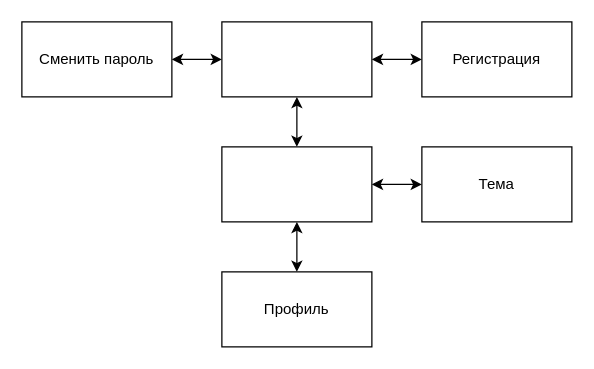
Some shapes in this 594 by 369 pixel diagram are drawn without their labels. The shapes that lost their labels are listed below. From the top down, each one's centre as x and y in pixels, then its label:
At pixel 296 59: "Авторизация".
At pixel 296 184: "Главная".
